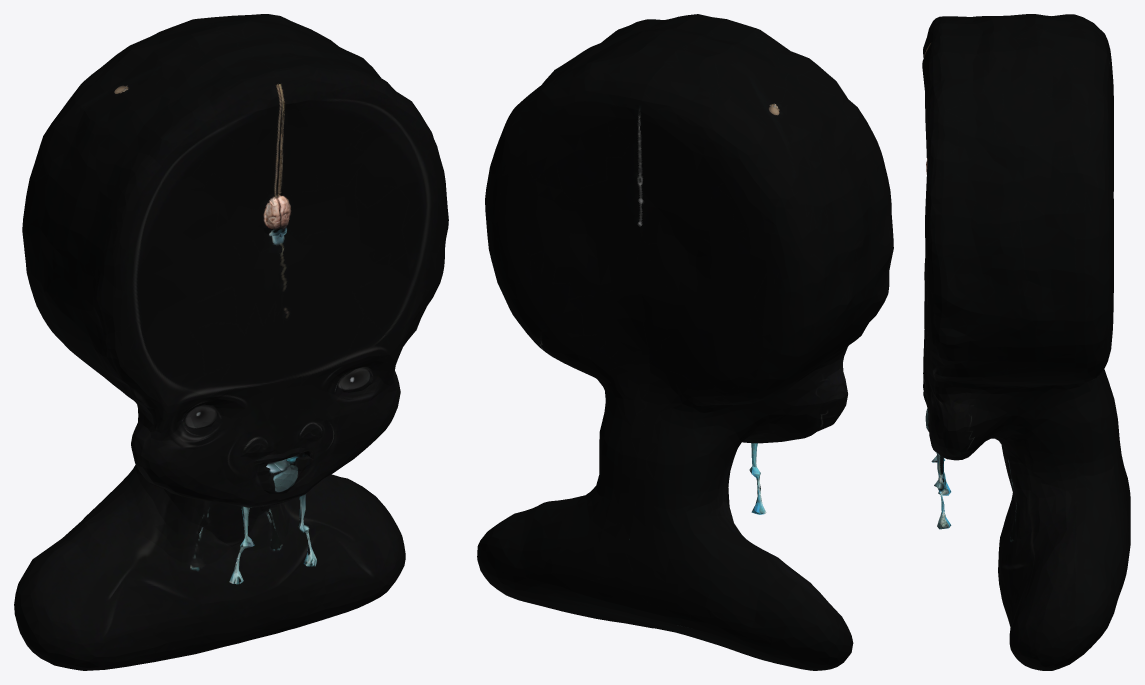
The model's file is Brain_Drain_0425140254_texture.fbx.
3 views of the same model, side by side, from view 1: azimuth 30°, elevation 25°; view 2: azimuth 150°, elevation 25°; view 3: azimuth 270°, elevation 25° (orthographic). The views are drawn at different scales.
Visible parts, largest first — view 1: temp; view 2: temp; view 3: temp.
Boxes of the visible parts, x1,y1,x2,y2 form: temp: (14, 14, 448, 670); temp: (477, 14, 893, 670); temp: (922, 14, 1130, 670).
Size of the model in its own units: 128 by 200 by 65.38.
Materials: 1 (1 with a texture image).
